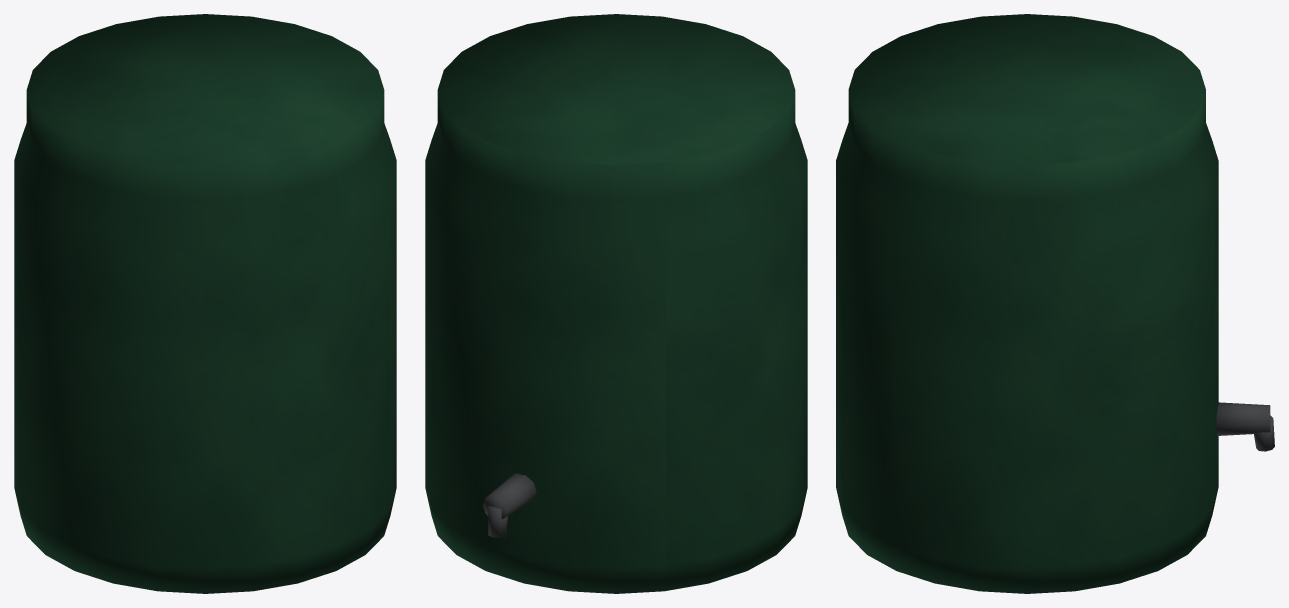
File: water_jug.glb
3 views of the same model, side by side, from view 1: azimuth 30°, elevation 25°; view 2: azimuth 150°, elevation 25°; view 3: azimuth 270°, elevation 25° (orthographic).
Visible parts, largest first — view 1: WaterJugBody; view 2: WaterJugBody, WaterJugSpigot; view 3: WaterJugBody, WaterJugSpigot.
Boxes of the visible parts, x1,y1,x2,y2 form: WaterJugBody: (14, 14, 396, 593); WaterJugBody: (425, 14, 807, 593); WaterJugSpigot: (483, 473, 536, 537); WaterJugBody: (836, 14, 1218, 593); WaterJugSpigot: (1216, 402, 1274, 451).
Bounding box in the file's own units: 0.244 × 0.3 × 0.28.
2 materials, 1 textured.
